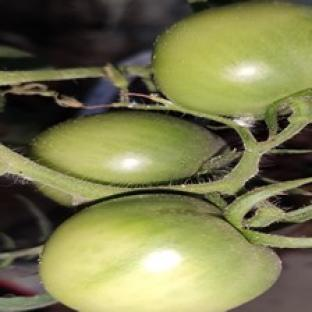Tomato: (41, 194, 279, 311), (152, 2, 311, 118), (33, 111, 224, 185)
